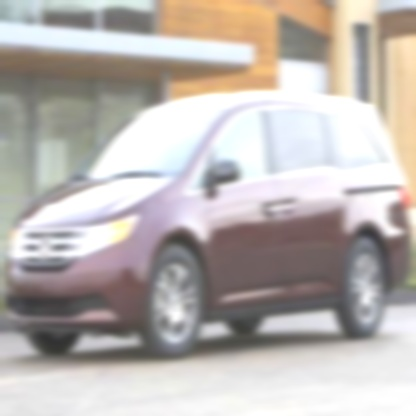Vehicle: (1, 89, 415, 367)
